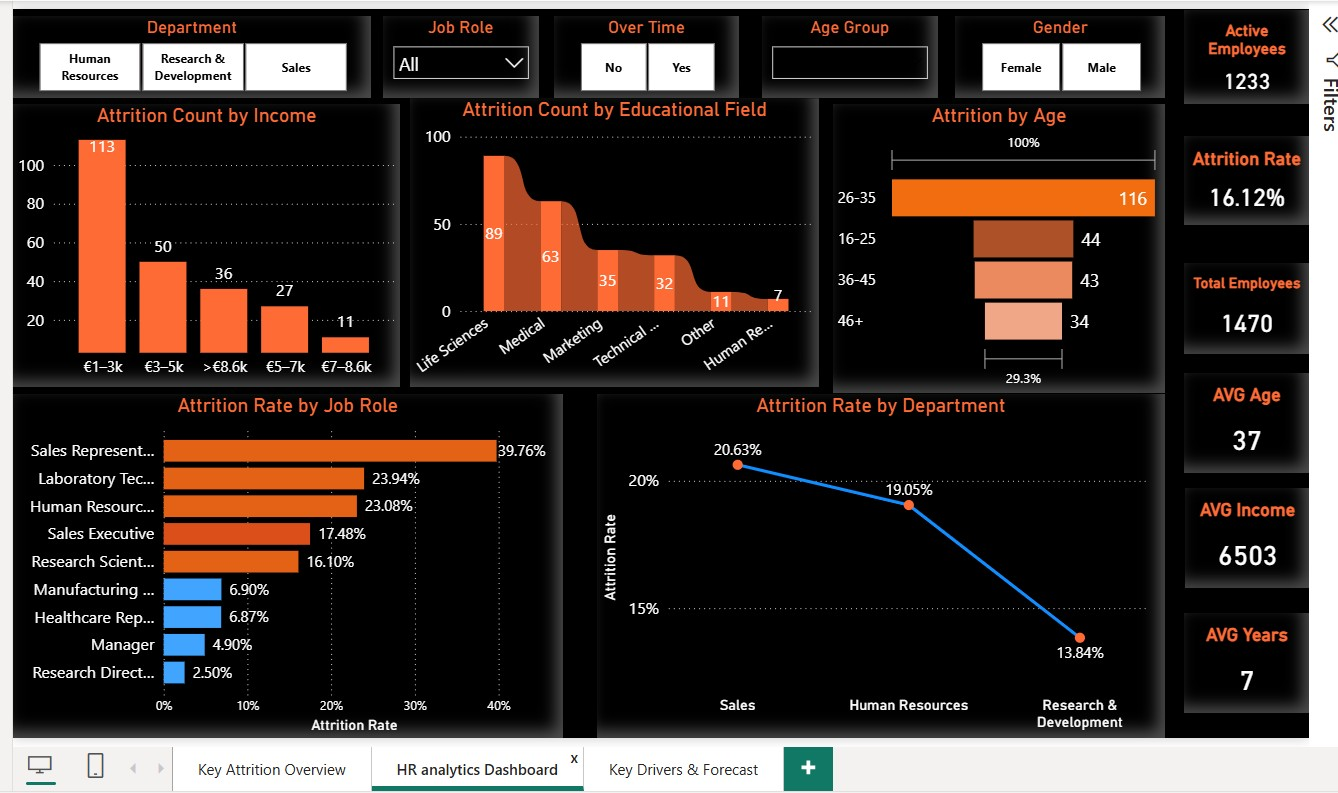

The dashboard page shown, as its layout file describes it:
{"tool":"powerbi","page":{"name":"Key Drivers & Retention Forecast","canvas":[1280,720],"ordinal":1},"visuals":[{"type":"card","title":"Active Employees","fields":{"Values":["HR_Employee_dataset.Active Employees"]},"box":[1156.2,1.2,124.1,93],"z":0},{"type":"card","title":"Attrition Rate","fields":{"Values":["HR_Employee_dataset.Attrition Rate"]},"box":[1156.2,126.5,124.1,86.8],"z":1000},{"type":"card","title":"Total Employees","fields":{"Values":["HR_Employee_dataset.Total Employees"]},"box":[1156.2,250.6,124.1,90.6],"z":2000},{"type":"lineChart","title":" Attrition Rate by Department","fields":{"Category":["HR_Employee_dataset.Department"],"Y":["HR_Employee_dataset.Attrition Rate"]},"box":[576.7,380,561,340.2],"z":4000},{"type":"clusteredBarChart","title":" Attrition Rate by Job Role","fields":{"Category":["HR_Employee_dataset.JobRole"],"Y":["HR_Employee_dataset.Attrition Rate"]},"box":[0,380,542.9,340.2],"z":5000},{"type":"ribbonChart","title":" Attrition Count by Educational Field","fields":{"Category":["HR_Employee_dataset.EducationField"],"Y":["HR_Employee_dataset.Attrition Count"]},"box":[392.1,88.1,403,285.9],"z":6000},{"type":"funnel","title":" Attrition by Age","fields":{"Category":["HR_Employee_dataset.AgeGroup"],"Y":["HR_Employee_dataset.Attrition Count"]},"box":[809.5,94.1,328.2,285.9],"z":7000},{"type":"clusteredColumnChart","title":"Attrition Count by Income","fields":{"Category":["HR_Employee_dataset.IncomeGroup"],"Y":["HR_Employee_dataset.Attrition Count"]},"box":[0,94.1,382.4,279.9],"z":8000},{"type":"slicer","title":"Department","fields":{"Values":["HR_Employee_dataset.Department"]},"box":[0,7.4,353.6,80.6],"z":9000},{"type":"slicer","title":"Job Role","fields":{"Values":["HR_Employee_dataset.JobRole"]},"box":[366,7.4,153.8,80.6],"z":10000},{"type":"card","title":"AVG Age","fields":{"Values":["Avg(HR_Employee_dataset.Age)"]},"box":[1156.2,359.8,124.1,99.2],"z":11000},{"type":"card","title":"AVG Years","fields":{"Values":["Avg(HR_Employee_dataset.YearsAtCompany)"]},"box":[1156.2,596.7,124.1,99.2],"z":12000},{"type":"card","title":"AVG Income","fields":{"Values":["Avg(HR_Employee_dataset.MonthlyIncome)"]},"box":[1157.4,472.7,122.8,99.2],"z":13000},{"type":"slicer","title":"Over Time","fields":{"Values":["HR_Employee_dataset.OverTime"]},"box":[534.7,7.4,182.4,80.6],"z":14000},{"type":"slicer","title":"Age Group","fields":{"Values":["HR_Employee_dataset.AgeGroup"]},"box":[739.4,7.4,173.7,80.6],"z":15000},{"type":"slicer","title":"Gender","fields":{"Values":["HR_Employee_dataset.Gender"]},"box":[930.4,7.4,207.2,80.6],"z":16000}]}

Visuals, with their boxes on the page's 1280x720 design canvas (x1, y1, x2, y2). These are canvas units, not pixel positions in the 1338x793 screenshot, which may show the page scaled, cropped or inside an application window:
"Active Employees" card: bbox=(1156, 1, 1280, 94)
"Attrition Rate" card: bbox=(1156, 126, 1280, 213)
"Total Employees" card: bbox=(1156, 251, 1280, 341)
" Attrition Rate by Department" lineChart: bbox=(577, 380, 1138, 720)
" Attrition Rate by Job Role" clusteredBarChart: bbox=(0, 380, 543, 720)
" Attrition Count by Educational Field" ribbonChart: bbox=(392, 88, 795, 374)
" Attrition by Age" funnel: bbox=(810, 94, 1138, 380)
"Attrition Count by Income" clusteredColumnChart: bbox=(0, 94, 382, 374)
"Department" slicer: bbox=(0, 7, 354, 88)
"Job Role" slicer: bbox=(366, 7, 520, 88)
"AVG Age" card: bbox=(1156, 360, 1280, 459)
"AVG Years" card: bbox=(1156, 597, 1280, 696)
"AVG Income" card: bbox=(1157, 473, 1280, 572)
"Over Time" slicer: bbox=(535, 7, 717, 88)
"Age Group" slicer: bbox=(739, 7, 913, 88)
"Gender" slicer: bbox=(930, 7, 1138, 88)
